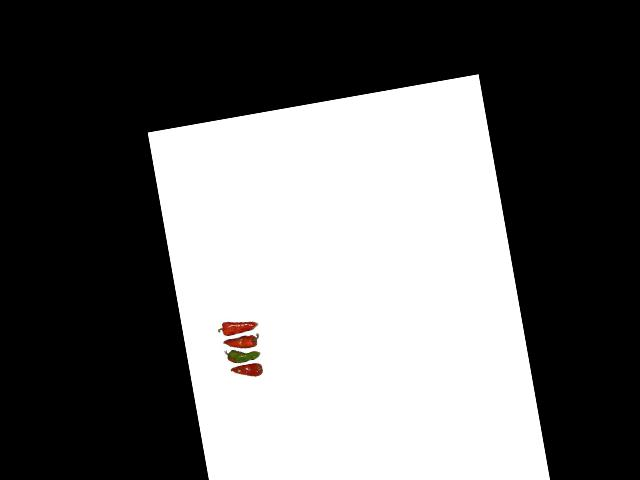bell_pepper: (226, 360, 265, 384)
